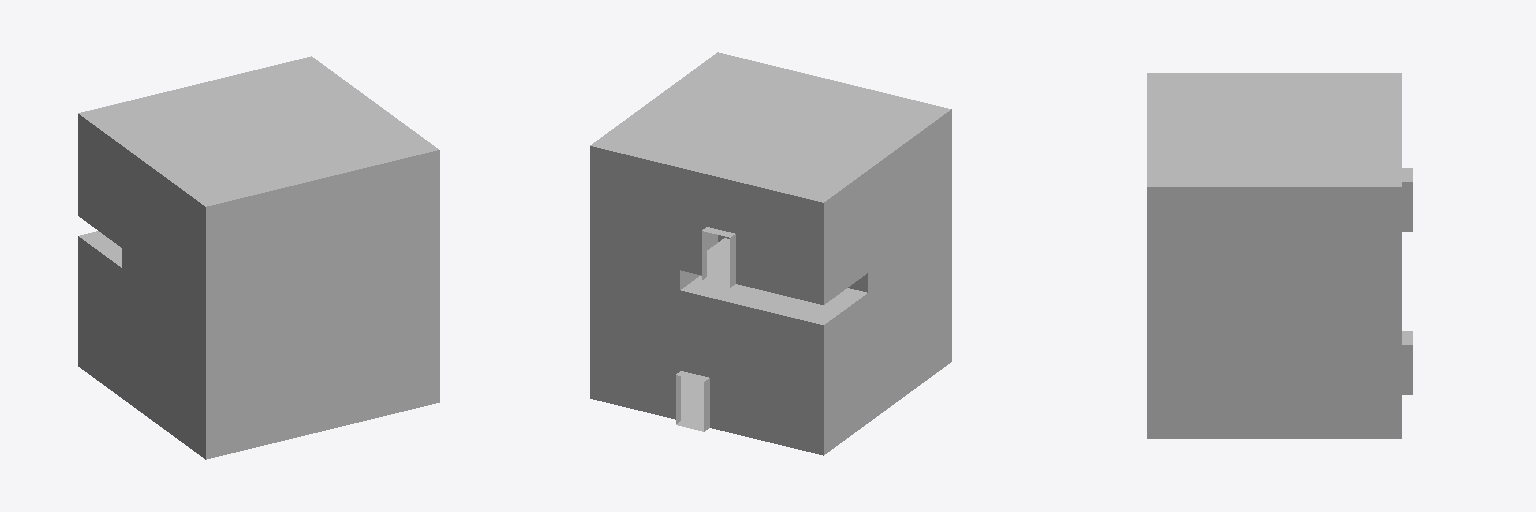
The model's file is Floor_2_Jan09_Edit_Room3.obj.
The picture shows the model from 3 angles: view 1: azimuth 30°, elevation 25°; view 2: azimuth 150°, elevation 25°; view 3: azimuth 270°, elevation 25°; orthographic projection.
Visible parts, largest first — view 1: Floor2#Room3; view 2: Floor2#Room3, Floor2#Room3#Snow, Floor2#Room3#Stone; view 3: Floor2#Room3.
Part boxes in pixels (left/top/right/bottom): Floor2#Room3: left=78, top=56, right=439, bottom=459; Floor2#Room3: left=590, top=52, right=951, bottom=455; Floor2#Room3#Snow: left=676, top=376, right=703, bottom=431; Floor2#Room3#Stone: left=702, top=238, right=729, bottom=287; Floor2#Room3: left=1147, top=73, right=1412, bottom=438.
Size of the model in its own units: 488 by 504 by 482.